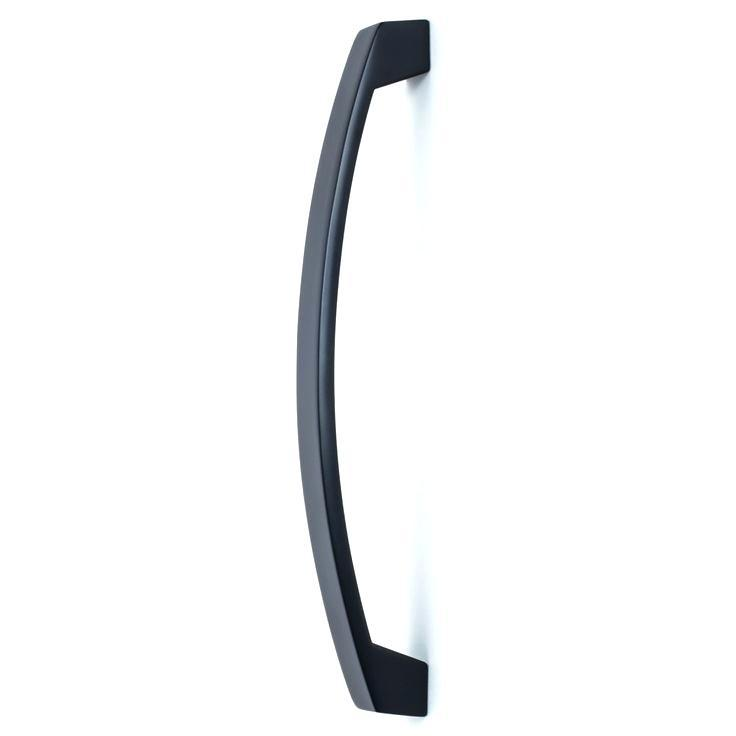handle: (278, 12, 448, 722)
